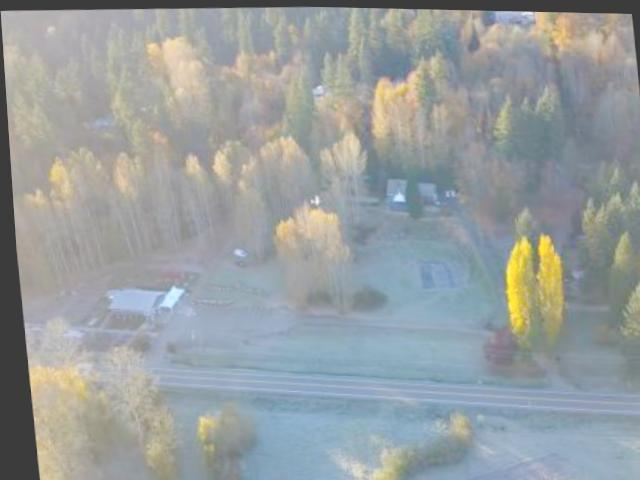uav: (297, 190, 326, 210)
